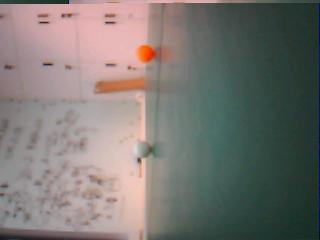oball: (135, 44, 154, 63)
